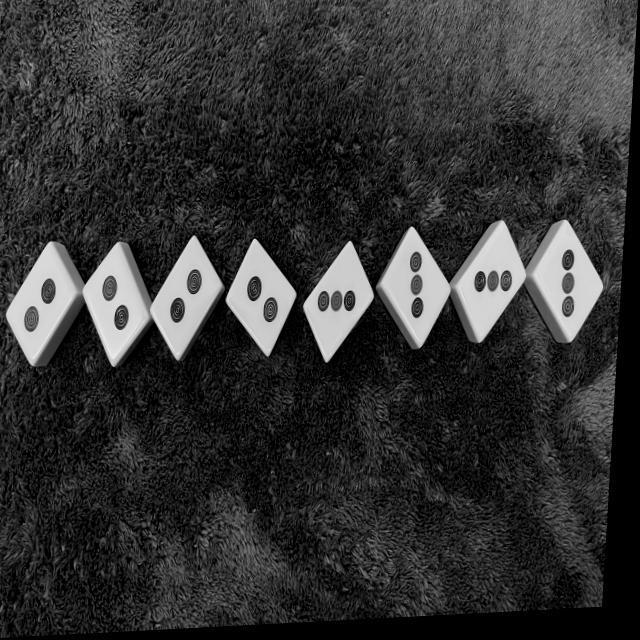t2: (146, 233, 227, 361), (1, 241, 81, 366), (222, 236, 302, 360), (76, 242, 154, 364)
t3: (528, 218, 608, 345), (299, 242, 378, 367), (375, 225, 454, 349), (453, 218, 529, 343)
